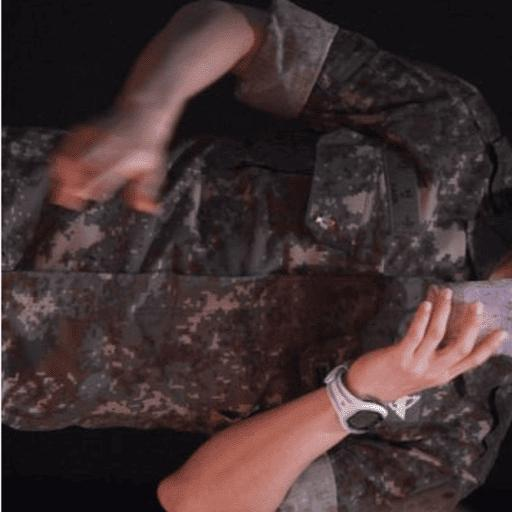korea army: (5, 4, 507, 509)
